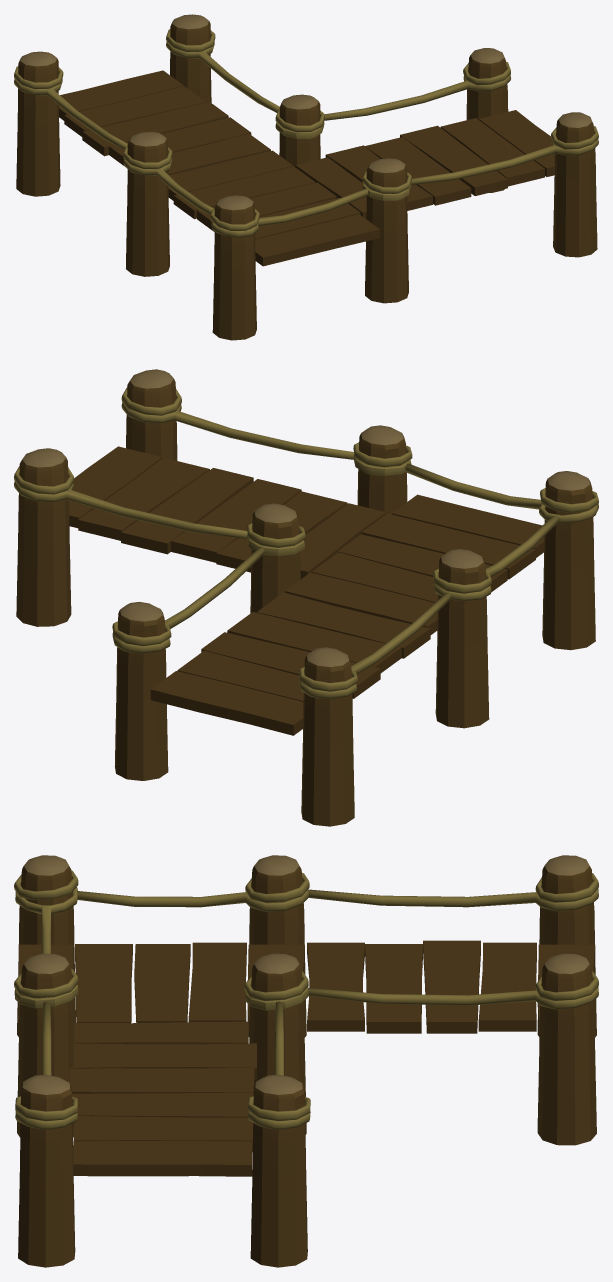
The model's file is CornerDockObject.fbx.
The picture shows the model from 3 angles, top to bottom: view 1: azimuth 30°, elevation 25°; view 2: azimuth 150°, elevation 25°; view 3: azimuth 270°, elevation 25°; orthographic projection. The views are drawn at different scales.
Parts seen in each view (by area): view 1: DockPillar021, DockPillar016, DockPillar017, DockPillar019, DockPillar022, DockPlanks022, DockPlanks013, DockPlanks014, DockPlanks018, DockPlanks019, DockPlanks012, DockPillar018 (+18 smaller); view 2: DockPillar015, DockPillar017, DockPillar019, DockPillar021, DockPillar018, DockPlanks017, DockPlanks013, DockPlanks021, DockPlanks014, DockPlanks026, DockPlanks025, DockPlanks020 (+26 smaller); view 3: DockPillar018, DockPillar015, DockPillar016, DockPlanks016, DockPillar022, DockPillar020, DockPlanks012, DockPlanks015, DockPlanks018, DockPlanks021, DockPlanks020, DockPlanks019 (+28 smaller).
Part boxes in pixels (x1,y1,x2,y2): DockPillar021: (212,195,256,340); DockPillar016: (553,112,597,257); DockPillar017: (16,51,60,196); DockPillar019: (126,131,169,276); DockPillar022: (365,158,408,303); DockPlanks022: (255,214,379,266); DockPlanks013: (400,125,507,195); DockPlanks014: (440,118,544,186); DockPlanks018: (82,102,228,156); DockPlanks019: (64,86,206,136); DockPlanks012: (365,137,471,205); DockPillar018: (170,14,211,102); DockPillar015: (16,448,71,626); DockPillar017: (301,647,354,826); DockPillar019: (435,549,489,728); DockPillar021: (542,471,595,650); DockPillar018: (114,601,168,780); DockPlanks017: (150,671,303,735); DockPlanks013: (121,468,253,554); DockPlanks021: (256,592,430,658); DockPlanks014: (78,457,209,540); DockPlanks026: (361,513,535,579); DockPlanks025: (285,572,437,634); DockPlanks020: (227,612,401,673); DockPillar018: (537,953,596,1145); DockPillar015: (250,1074,307,1267); DockPillar016: (18,1074,75,1267); DockPlanks016: (73,1141,252,1176); DockPillar022: (17,953,74,1137); DockPillar020: (249,953,306,1134); DockPlanks012: (69,1068,254,1093); DockPlanks015: (73,1043,256,1079); DockPlanks018: (423,940,480,1033); DockPlanks021: (307,942,364,1031); DockPlanks020: (365,944,422,1033); DockPlanks019: (478,942,536,1031).
Size of the model in its own units: 318 by 319 by 105.
